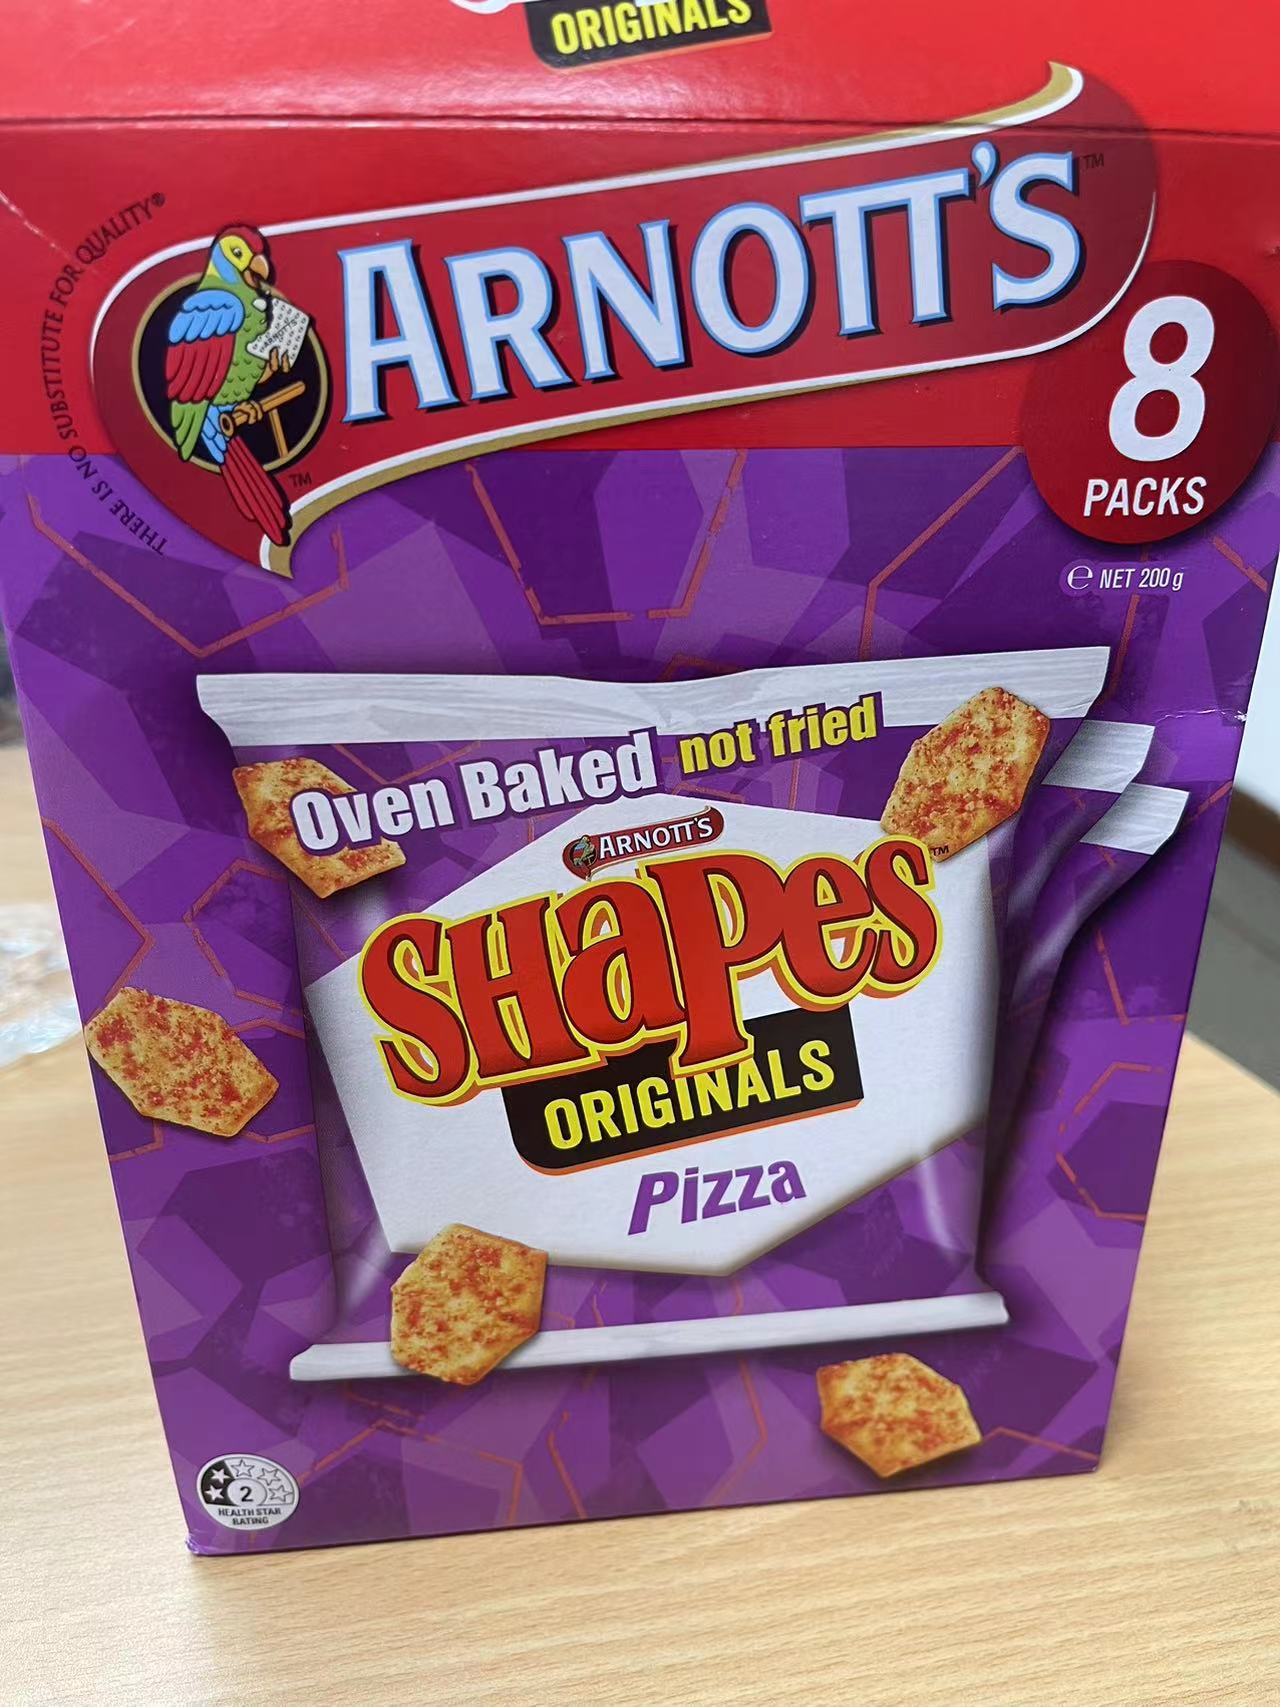Crackers_200-299g_NonHalal_NonHealthy: (16, 1, 1280, 1544)
